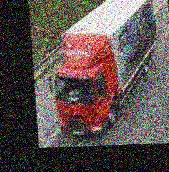truck: (43, 0, 163, 139)
